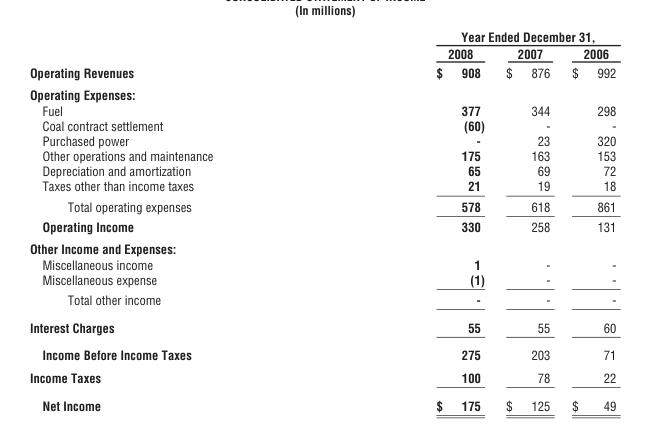table: (28, 28, 615, 412)
table column: (28, 28, 324, 412), (324, 28, 494, 412), (494, 28, 560, 412), (560, 28, 615, 412)
table column header: (28, 28, 615, 62)
table projected row header: (28, 83, 615, 102), (28, 237, 615, 256)
table row: (28, 313, 615, 340), (28, 365, 615, 391), (28, 340, 615, 365), (28, 289, 615, 313), (28, 62, 615, 83), (28, 195, 615, 216), (28, 216, 615, 237), (28, 391, 615, 412), (28, 83, 615, 102), (28, 237, 615, 256), (28, 44, 615, 62), (28, 271, 615, 289), (28, 178, 615, 195), (28, 28, 615, 44), (28, 147, 615, 163), (28, 102, 615, 117), (28, 117, 615, 132), (28, 132, 615, 147), (28, 163, 615, 178), (28, 256, 615, 271)
table spanning cell: (324, 28, 615, 44)
